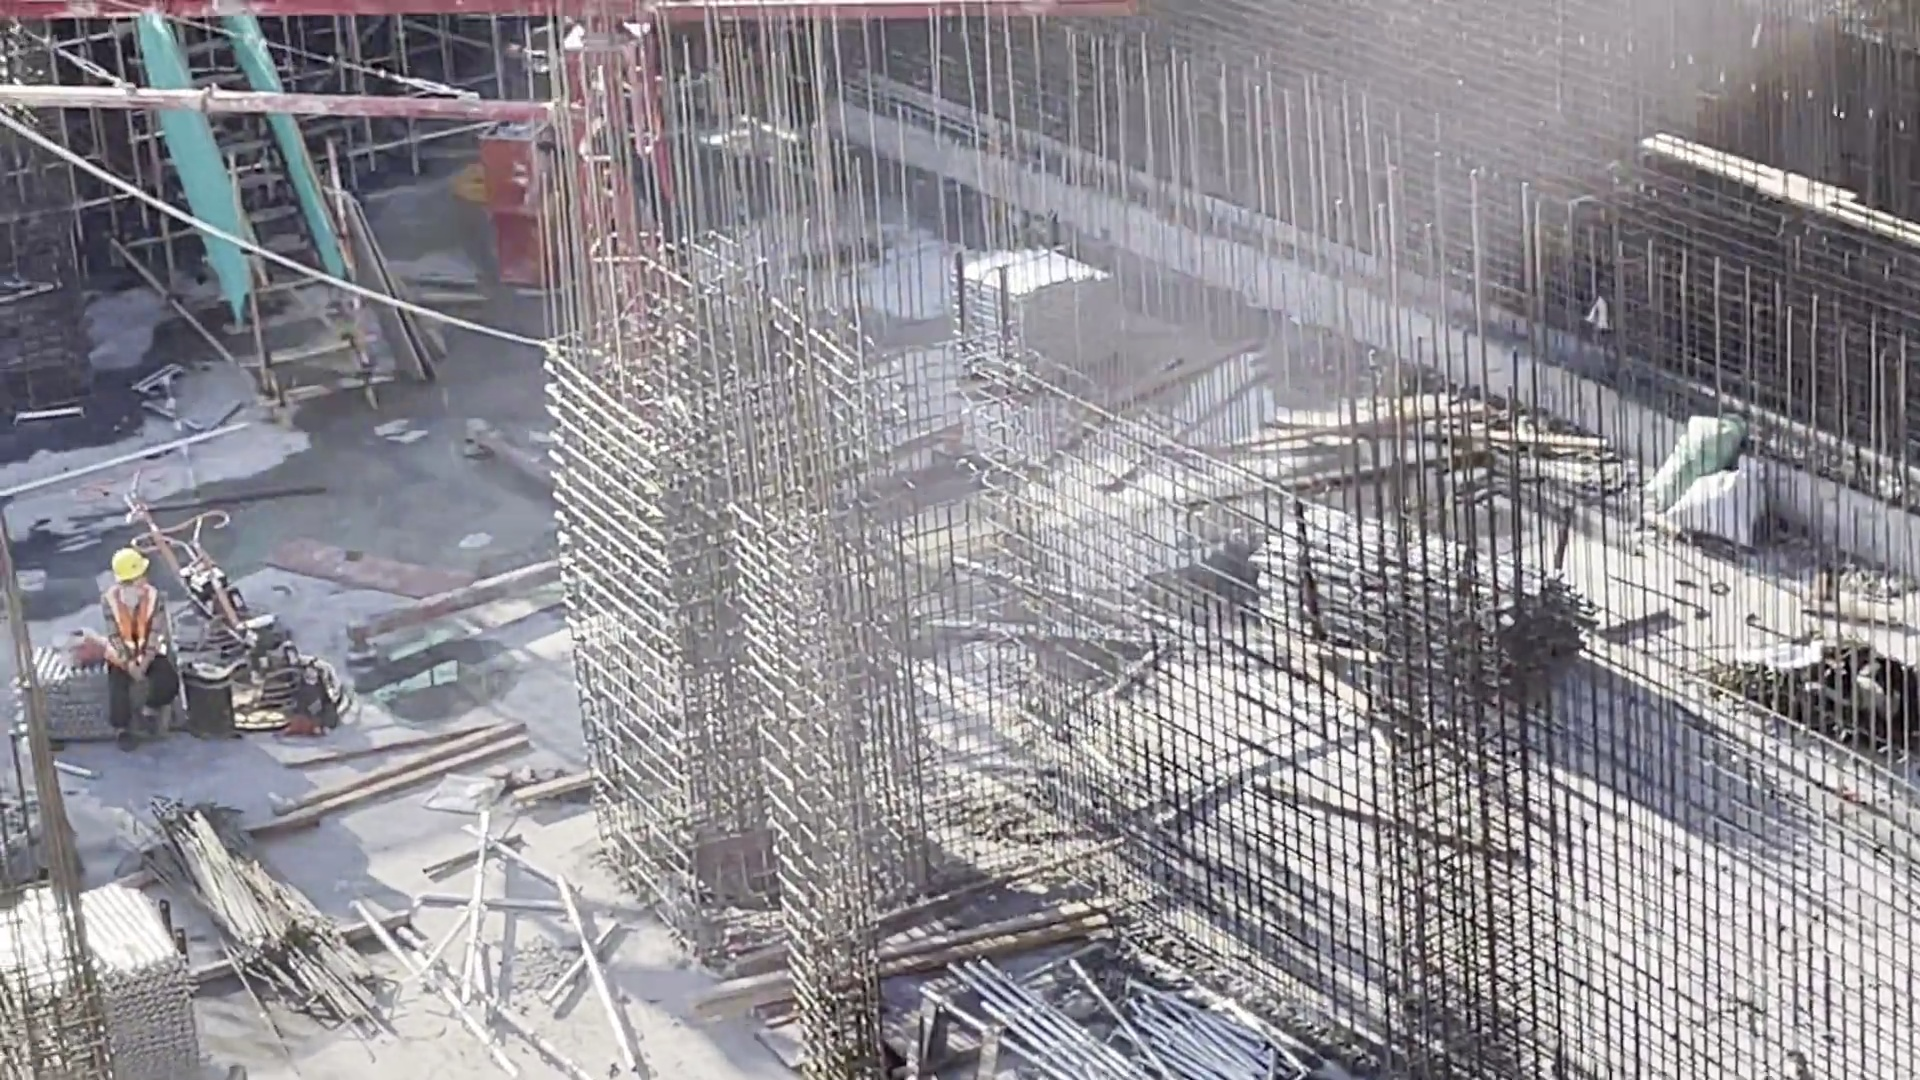helmet: (128, 562, 154, 587)
person: (83, 543, 179, 748)
rebar: (136, 771, 409, 1050)
scaffold: (1248, 474, 1604, 722), (28, 891, 189, 1072), (986, 236, 1121, 396), (14, 647, 106, 732)
vest: (96, 584, 171, 667)
